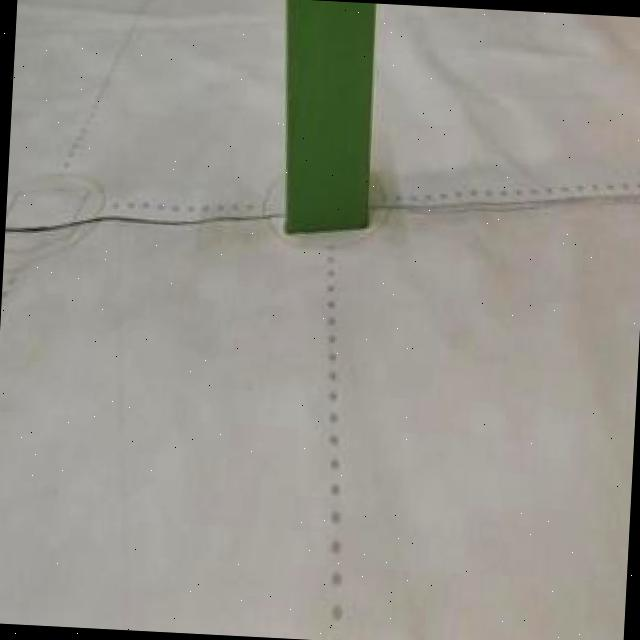greenbox: (271, 0, 386, 234)
